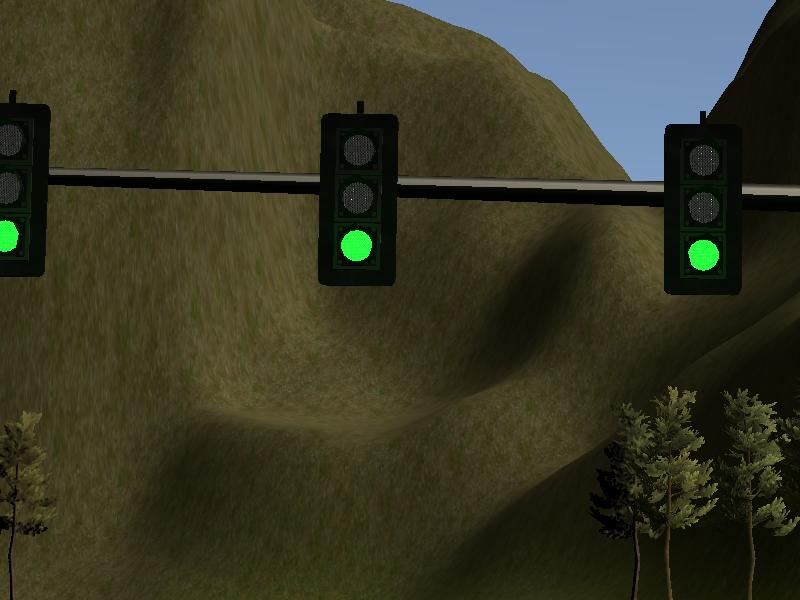green_light: (666, 130, 739, 295), (323, 117, 394, 284), (1, 106, 46, 276)
